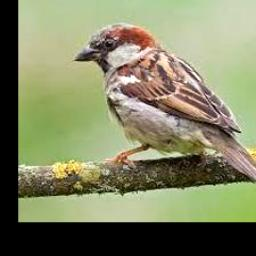Sparrow: (73, 23, 256, 191)
